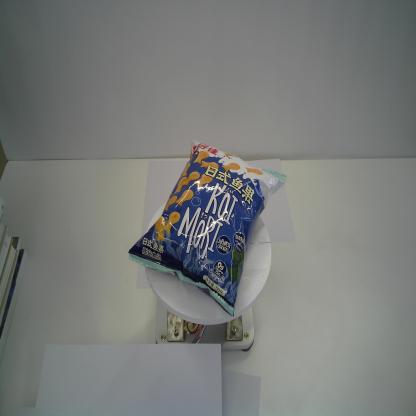Puffed Food: (127, 138, 287, 318)
